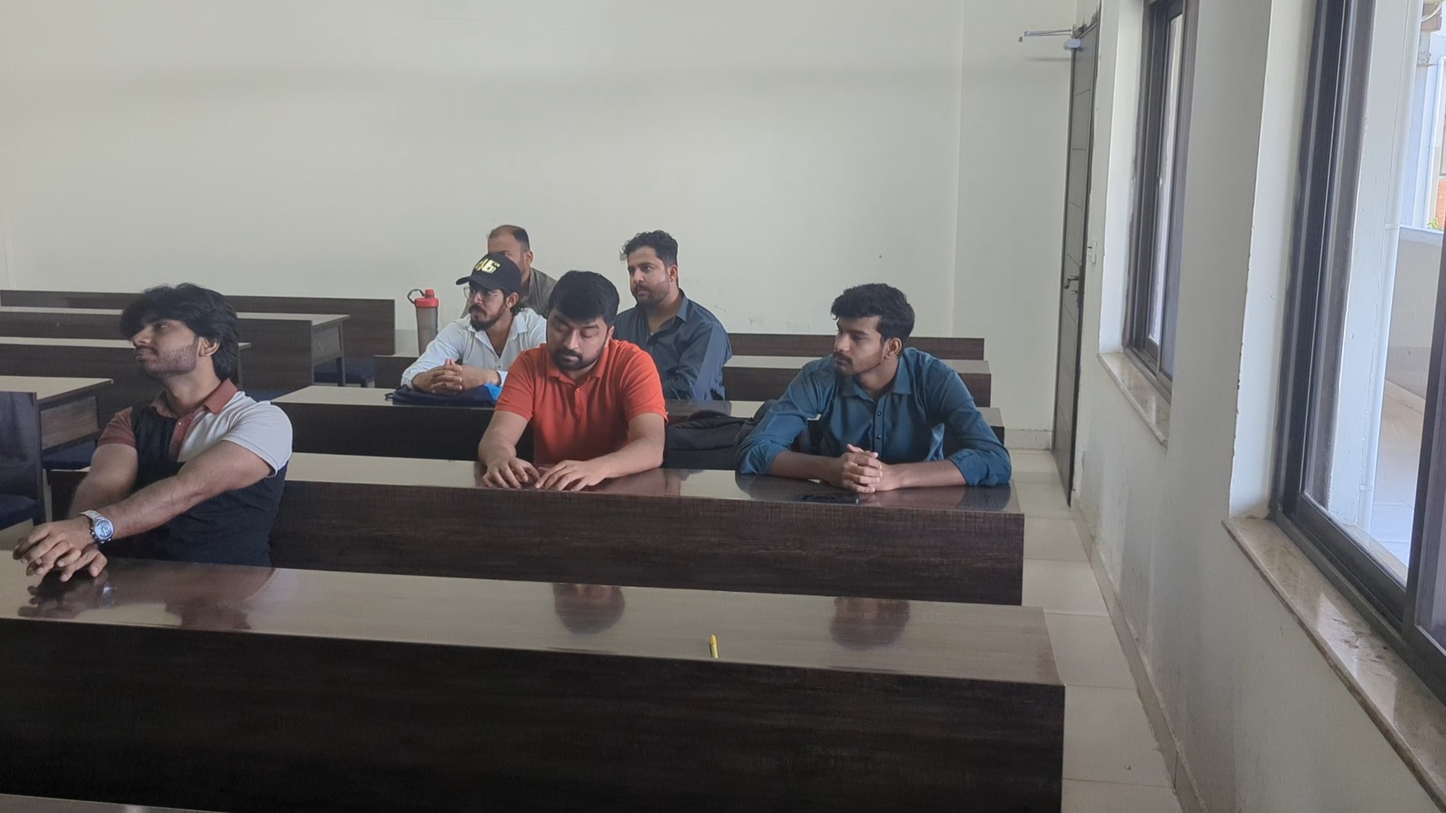look_forward: (122, 265, 296, 463), (798, 263, 946, 473), (450, 261, 530, 369), (619, 223, 693, 334), (472, 223, 543, 274)
sleep: (538, 287, 694, 490)
